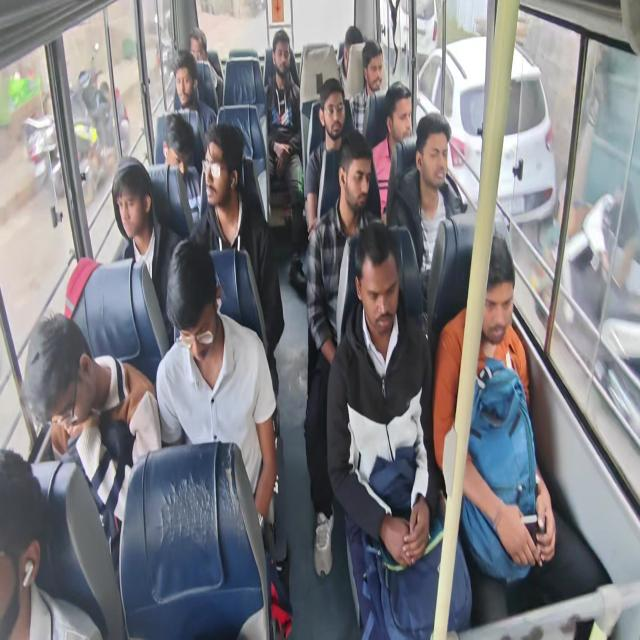person: (0, 447, 49, 614), (24, 331, 95, 432), (348, 240, 412, 344), (170, 246, 225, 360), (466, 240, 521, 351), (109, 160, 158, 250), (202, 132, 235, 210), (341, 148, 374, 220), (160, 116, 195, 180), (419, 124, 451, 194), (318, 83, 344, 137), (391, 96, 416, 144), (172, 62, 194, 106), (345, 26, 362, 74), (365, 46, 382, 90), (270, 35, 290, 70), (188, 34, 210, 65)
